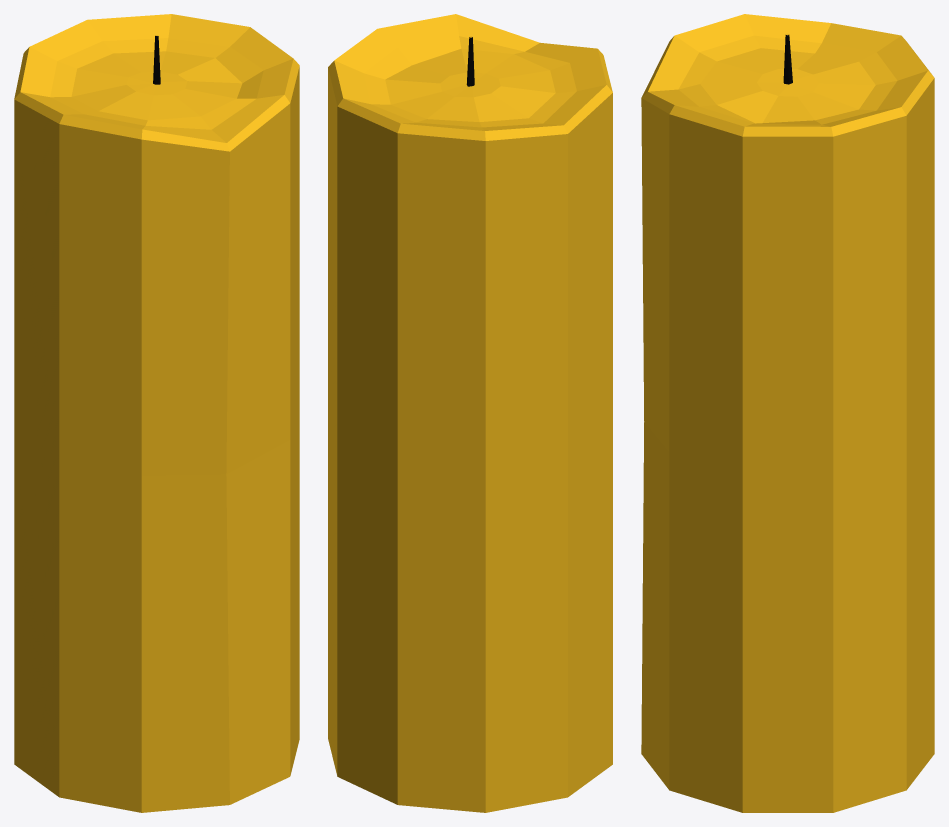
The model's file is Candle_small.fbx.
3 views of the same model, side by side, from view 1: azimuth 30°, elevation 25°; view 2: azimuth 150°, elevation 25°; view 3: azimuth 270°, elevation 25° (orthographic).
Visible parts, largest first — view 1: Candle.001; view 2: Candle.001; view 3: Candle.001.
Part boxes in pixels (x1,y1,x2,y2): Candle.001: (14,14,299,812); Candle.001: (328,14,612,812); Candle.001: (641,14,934,812).
Size of the model in its own units: 4.2 by 11.95 by 4.41.
